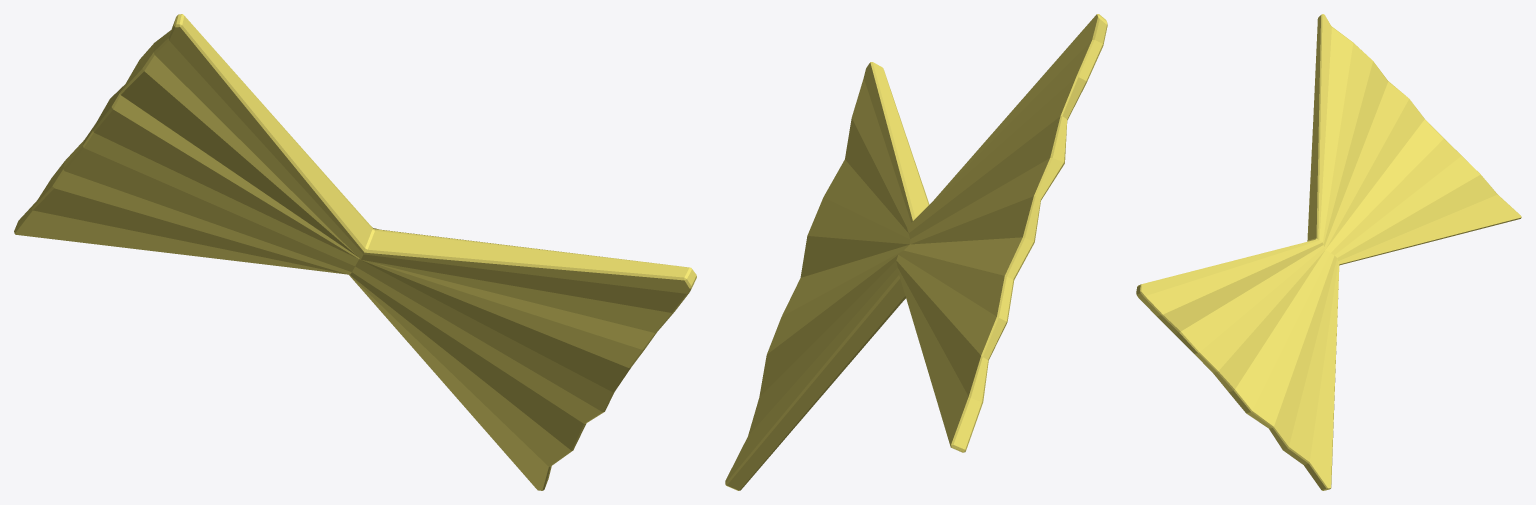
The picture shows the model from 3 angles, left to right: view 1: azimuth 30°, elevation 25°; view 2: azimuth 150°, elevation 25°; view 3: azimuth 270°, elevation 25°; orthographic projection. The views are drawn at different scales.
Visible parts, largest first — view 1: Plane.009; view 2: Plane.009; view 3: Plane.009.
Part boxes in pixels (x1,y1,x2,y2): Plane.009: [14, 14, 696, 490]; Plane.009: [725, 14, 1107, 490]; Plane.009: [1136, 14, 1521, 490].
Size of the model in its own units: 1.28 by 1.77 by 1.7.
